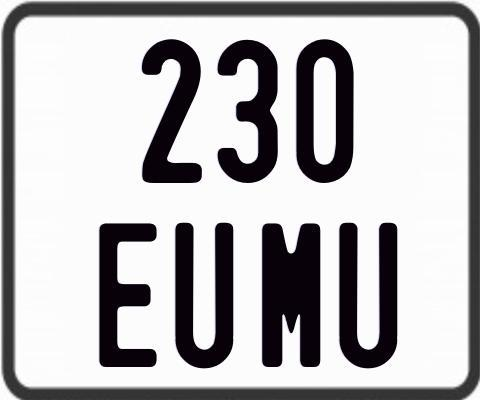0: (293, 36, 356, 184)
2: (140, 39, 201, 188)
3: (218, 40, 280, 187)
E: (99, 221, 162, 369)
M: (259, 223, 317, 370)
U: (336, 223, 400, 372), (172, 221, 235, 369)
